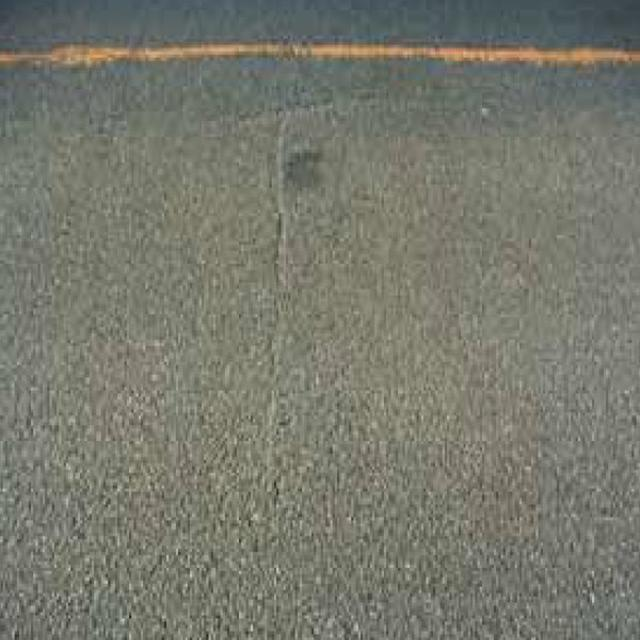crack: (248, 103, 333, 508)
